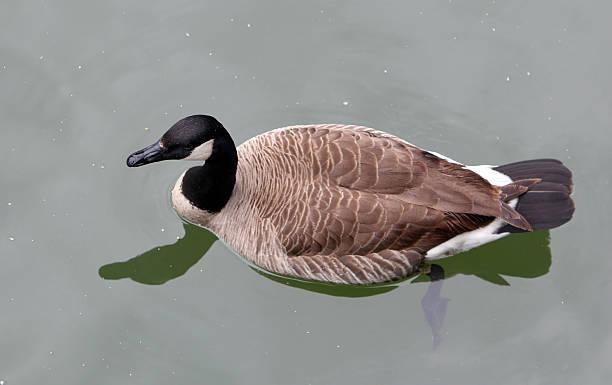Canadian-Goose: (115, 108, 579, 293)
